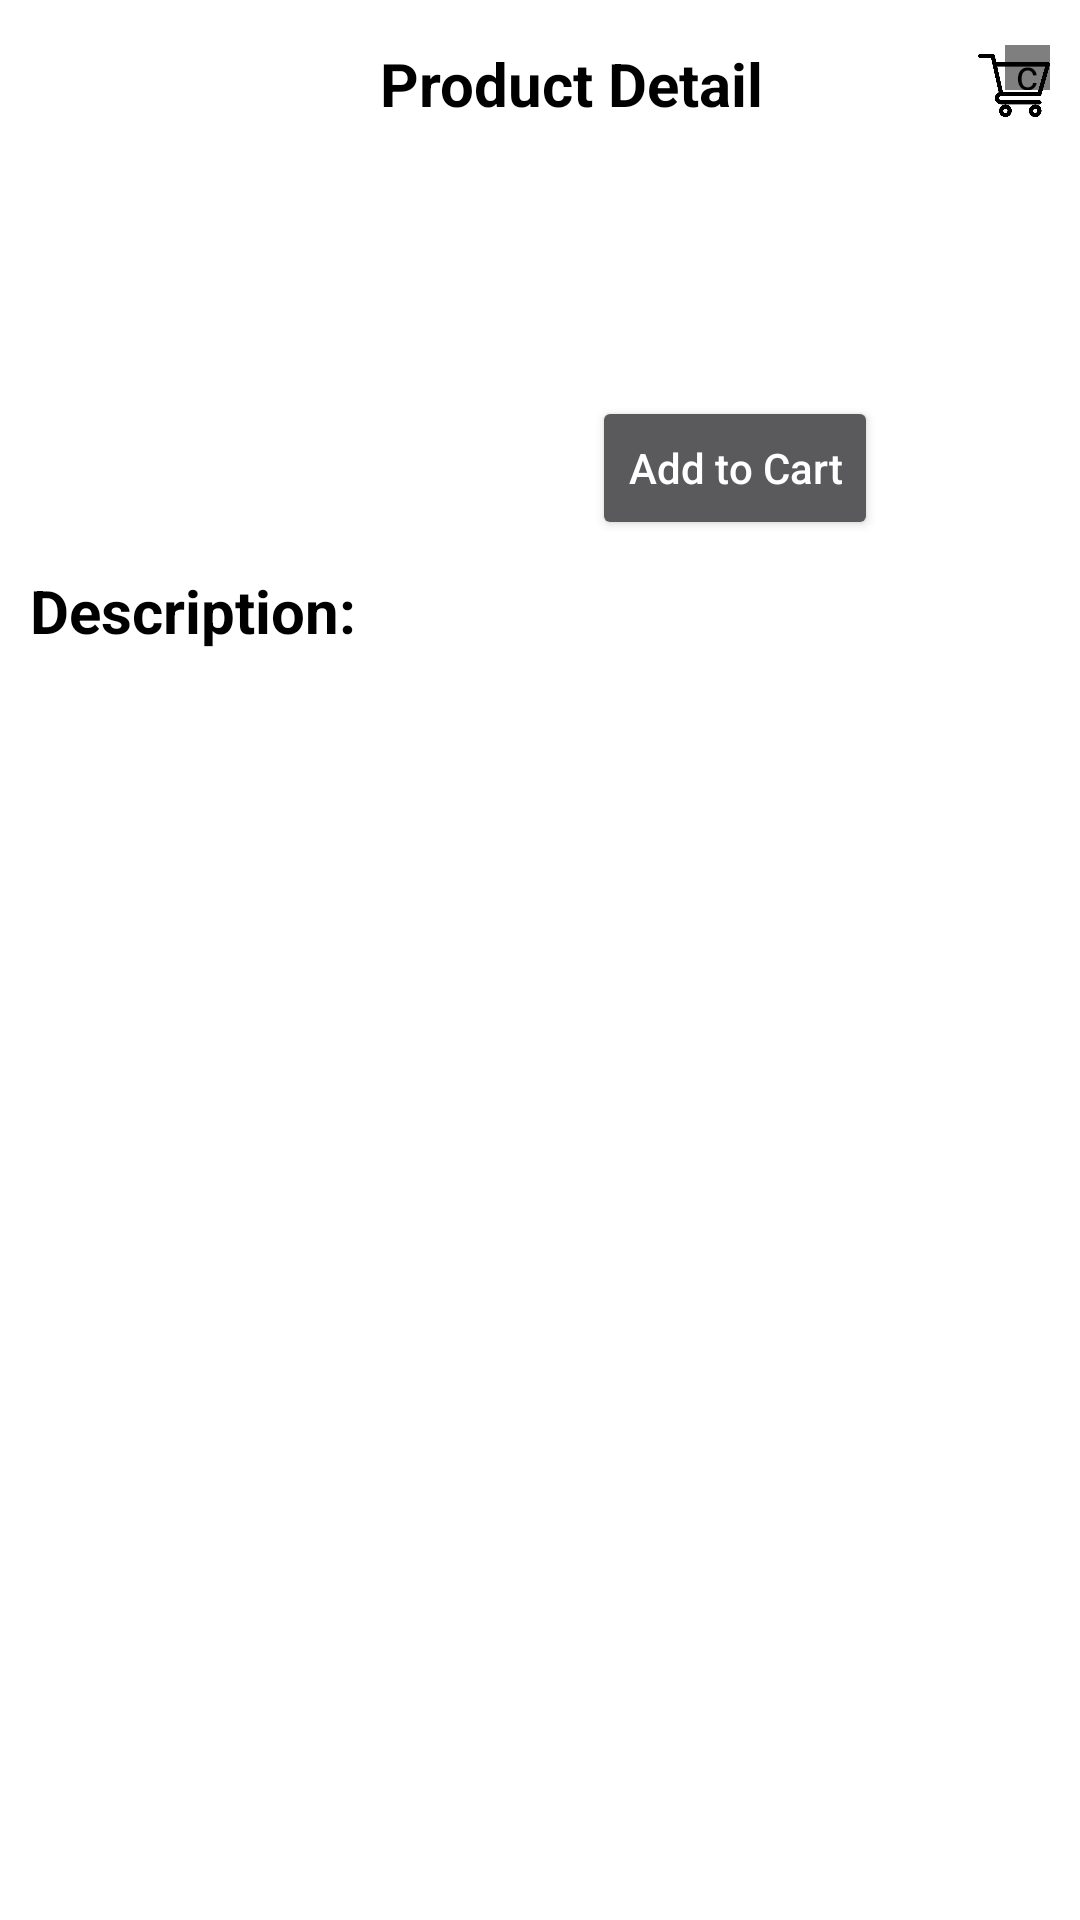

Named icons in this screenshot (1080 x 1920) and their bounding boxes, (x1, y1, x2, y2):
cart: (978, 45, 1050, 117)
